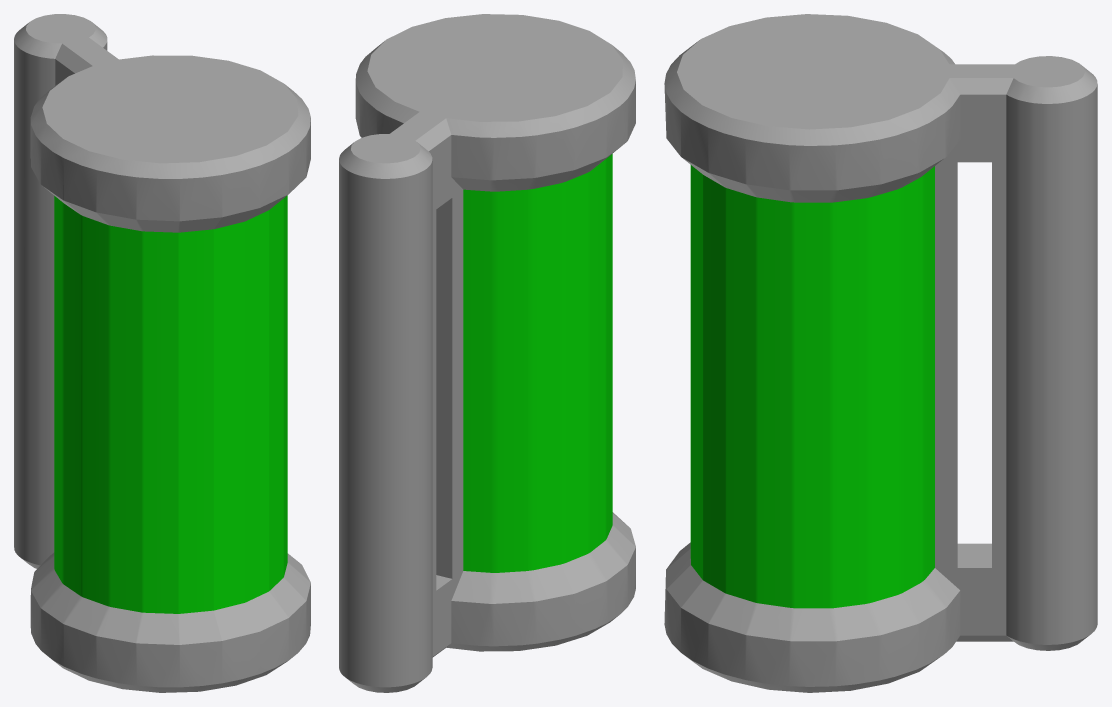
Rendered from Health_Pack01.fbx.
3 renders of one model, left to right at view 1: azimuth 30°, elevation 25°; view 2: azimuth 150°, elevation 25°; view 3: azimuth 270°, elevation 25°, orthographic. The views are drawn at different scales.
Visible parts, largest first — view 1: Health_Pack01; view 2: Health_Pack01; view 3: Health_Pack01.
Part boxes in pixels (x1=…): Health_Pack01: x1=14, y1=14, x2=310, y2=692; Health_Pack01: x1=339, y1=14, x2=635, y2=692; Health_Pack01: x1=664, y1=14, x2=1097, y2=692.
Bounding box in the file's own units: 11.99 × 25 × 17.41.
